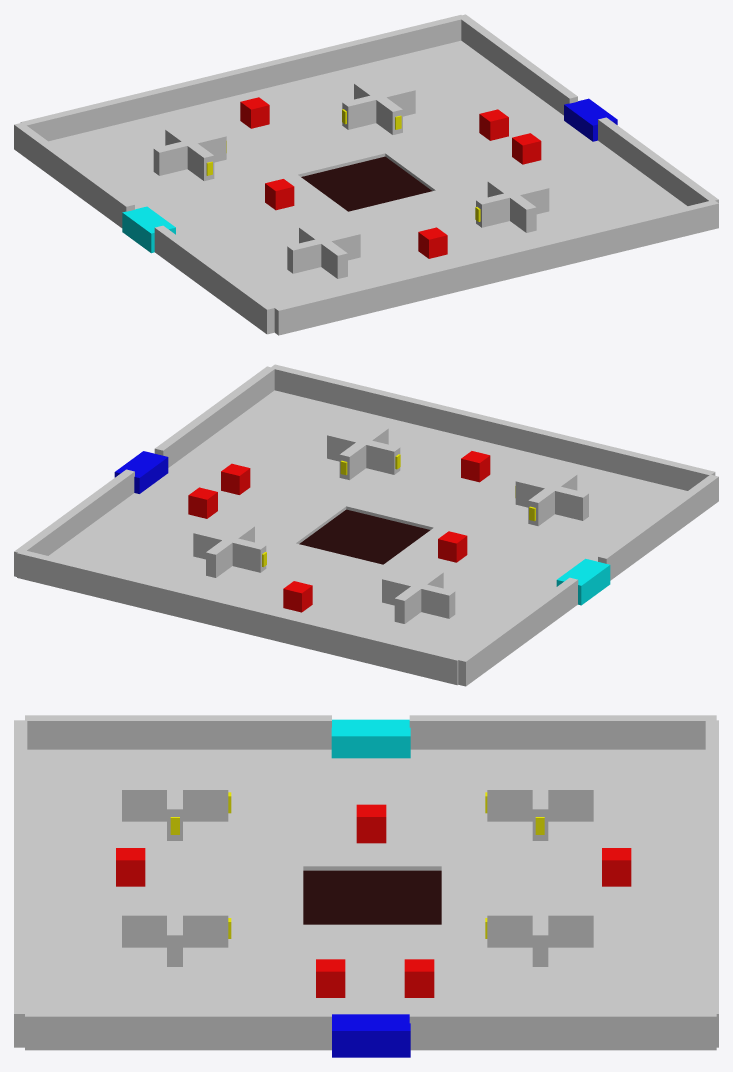
The model's file is Level2_b6.fbx.
The picture shows the model from 3 angles, top to bottom: view 1: azimuth 30°, elevation 25°; view 2: azimuth 150°, elevation 25°; view 3: azimuth 270°, elevation 25°; orthographic projection. The views are drawn at different scales.
Visible parts, largest first — view 1: Box057, Box061, Box060, Box066, Box082, Box065, Box063, Box064, Box070, Box068, Box072, Box074 (+11 smaller); view 2: Box057, Box060, Box061, Box082, Box065, Box066, Box064, Box063, Box070, Box068, Box074, Box072 (+11 smaller); view 3: Box057, Box064, Box063, Box066, Box065, Box082, Box061, Box060, Box073, Box075, Box069, Box071 (+11 smaller).
Part boxes in pixels (<box>): Box057: <box>48,40,687,306</box>; Box061: <box>274,200,718,335</box>; Box060: <box>20,15,464,141</box>; Box066: <box>154,225,275,334</box>; Box082: <box>301,156,432,211</box>; Box065: <box>14,122,134,227</box>; Box063: <box>458,14,577,115</box>; Box064: <box>598,117,718,205</box>; Box070: <box>287,230,360,273</box>; Box068: <box>153,132,226,175</box>; Box072: <box>342,86,415,129</box>; Box074: <box>476,184,549,227</box>; Box057: <box>49,390,687,656</box>; Box060: <box>17,549,461,685</box>; Box061: <box>270,364,715,490</box>; Box082: <box>299,509,430,564</box>; Box065: <box>458,577,578,686</box>; Box066: <box>598,474,718,580</box>; Box064: <box>154,366,274,467</box>; Box063: <box>14,469,134,576</box>; Box070: <box>515,477,588,520</box>; Box068: <box>382,575,455,618</box>; Box074: <box>327,431,400,474</box>; Box072: <box>193,529,266,572</box>; Box057: <box>27,749,705,1014</box>; Box064: <box>25,1011,331,1050</box>; Box063: <box>409,1011,716,1050</box>; Box066: <box>25,715,331,749</box>; Box065: <box>409,715,716,749</box>; Box082: <box>303,870,441,924</box>; Box061: <box>14,720,27,1047</box>; Box060: <box>705,720,718,1047</box>; Box073: <box>487,909,593,947</box>; Box075: <box>122,909,228,947</box>; Box069: <box>487,783,593,821</box>; Box071: <box>122,783,228,821</box>.
Bounding box in the file's own units: 642 × 36.8 × 615.
